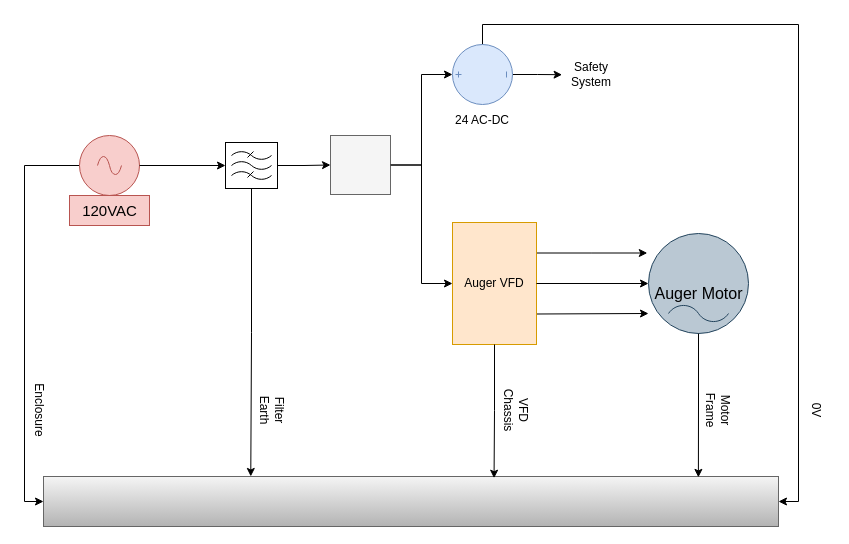
The diagram is 849 pixels wide and 544 high, and some of its shapes have lost their labels. Each missing label, with the box of its shape:
Grounding Bar: (42, 476, 778, 526)
MCB: (330, 134, 390, 194)
